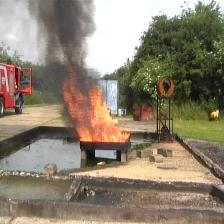fire: (66, 93, 128, 142)
smoke: (42, 7, 93, 81)
